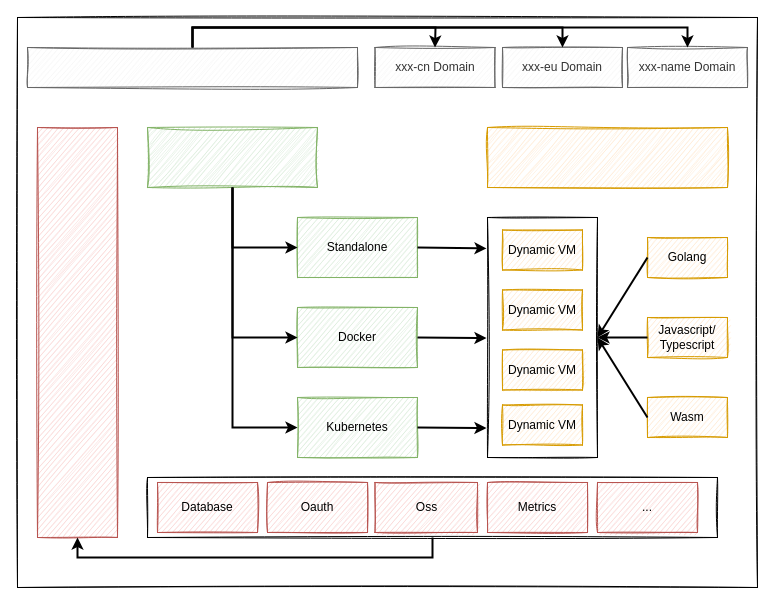
Some shapes in this 775 by 605 pixel diagram are drawn without their labels. The box of each missing label's shape, as (x1, y1, x2, y2) in pixels:
Deploy: (146, 126, 318, 188)
Deploy Zone(like CN, EU, LAME, NAME): (26, 46, 358, 88)
Gateway: (486, 126, 728, 188)
Serverless Admin (Web): (36, 126, 118, 538)
